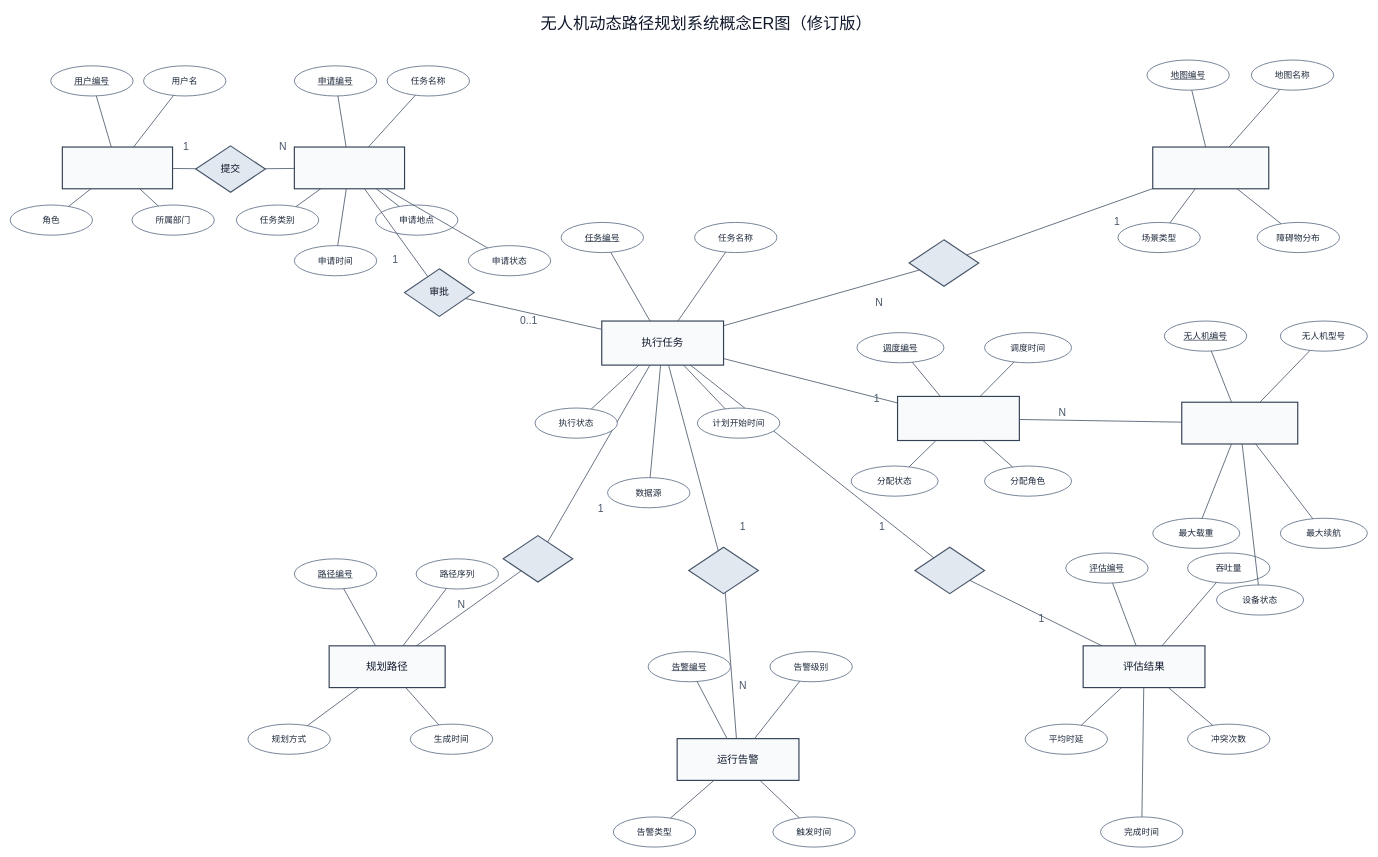
This 1378x857 diagram has some shape labels left out. Each missing label, with the centre of its shape:
"产生" belongs at (949,570).
"任务申请" belongs at (349,167).
"任务调度" belongs at (958,418).
"使用" belongs at (943,263).
"地图环境" belongs at (1210,167).
"无人机" belongs at (1239,422).
"生成" belongs at (537,558).
"用户" belongs at (117,167).
"触发" belongs at (723,570).
